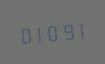nine: (60, 19, 73, 42)
one: (32, 21, 45, 44), (74, 18, 87, 40)
zero: (46, 20, 59, 43), (18, 23, 31, 45)
